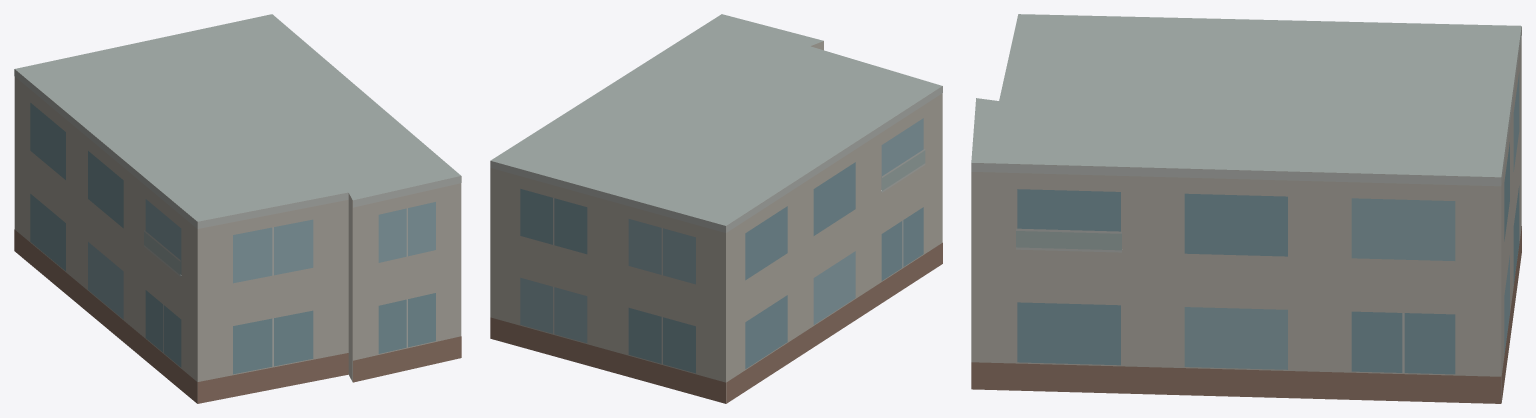
Rendered from survey-upis-32882811.glb.
3 views of the same model, side by side, from view 1: azimuth 30°, elevation 25°; view 2: azimuth 150°, elevation 25°; view 3: azimuth 270°, elevation 25° (orthographic). The views are drawn at different scales.
Parts seen in each view (by area): view 1: survey-upis-32882811.tmp; view 2: survey-upis-32882811.tmp; view 3: survey-upis-32882811.tmp.
Part boxes in pixels (x1,y1,x2,y2): survey-upis-32882811.tmp: [14, 14, 461, 403]; survey-upis-32882811.tmp: [490, 14, 942, 403]; survey-upis-32882811.tmp: [971, 14, 1521, 403].
Size of the model in its own units: 9.44 by 6.1 by 13.44.
